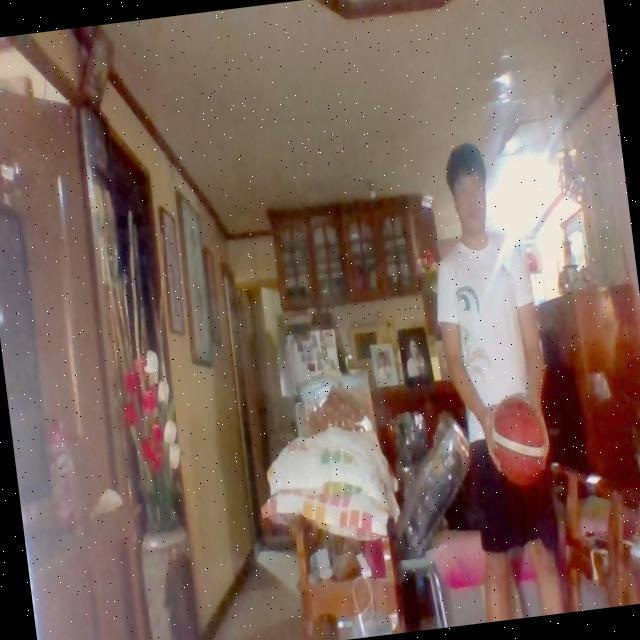ball: (482, 389, 552, 488)
